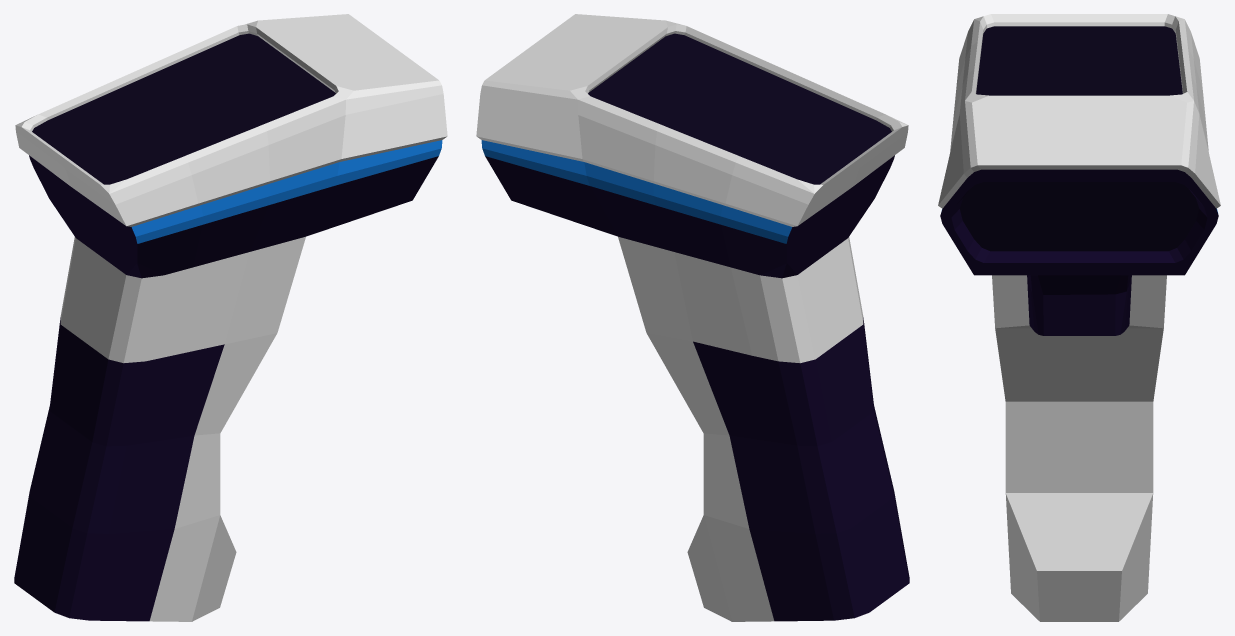
The model's file is scanner.fbx.
3 renders of one model, left to right at view 1: azimuth 30°, elevation 25°; view 2: azimuth 150°, elevation 25°; view 3: azimuth 270°, elevation 25°, orthographic. The views are drawn at different scales.
Visible parts, largest first — view 1: Cube; view 2: Cube; view 3: Cube.
Boxes of the visible parts, x1=… form: Cube: x1=14, y1=14, x2=447, y2=621; Cube: x1=476, y1=14, x2=909, y2=621; Cube: x1=938, y1=14, x2=1220, y2=621.
Size of the model in its own units: 224 by 306 by 136.
